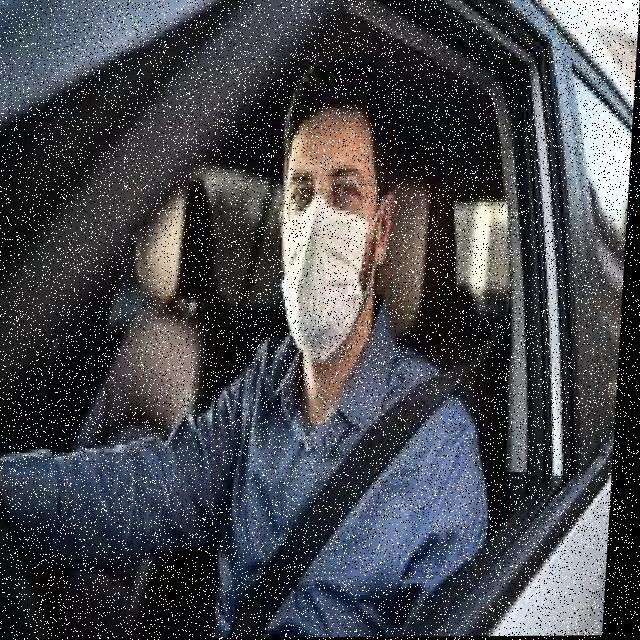seatbelt: (227, 344, 476, 638)
